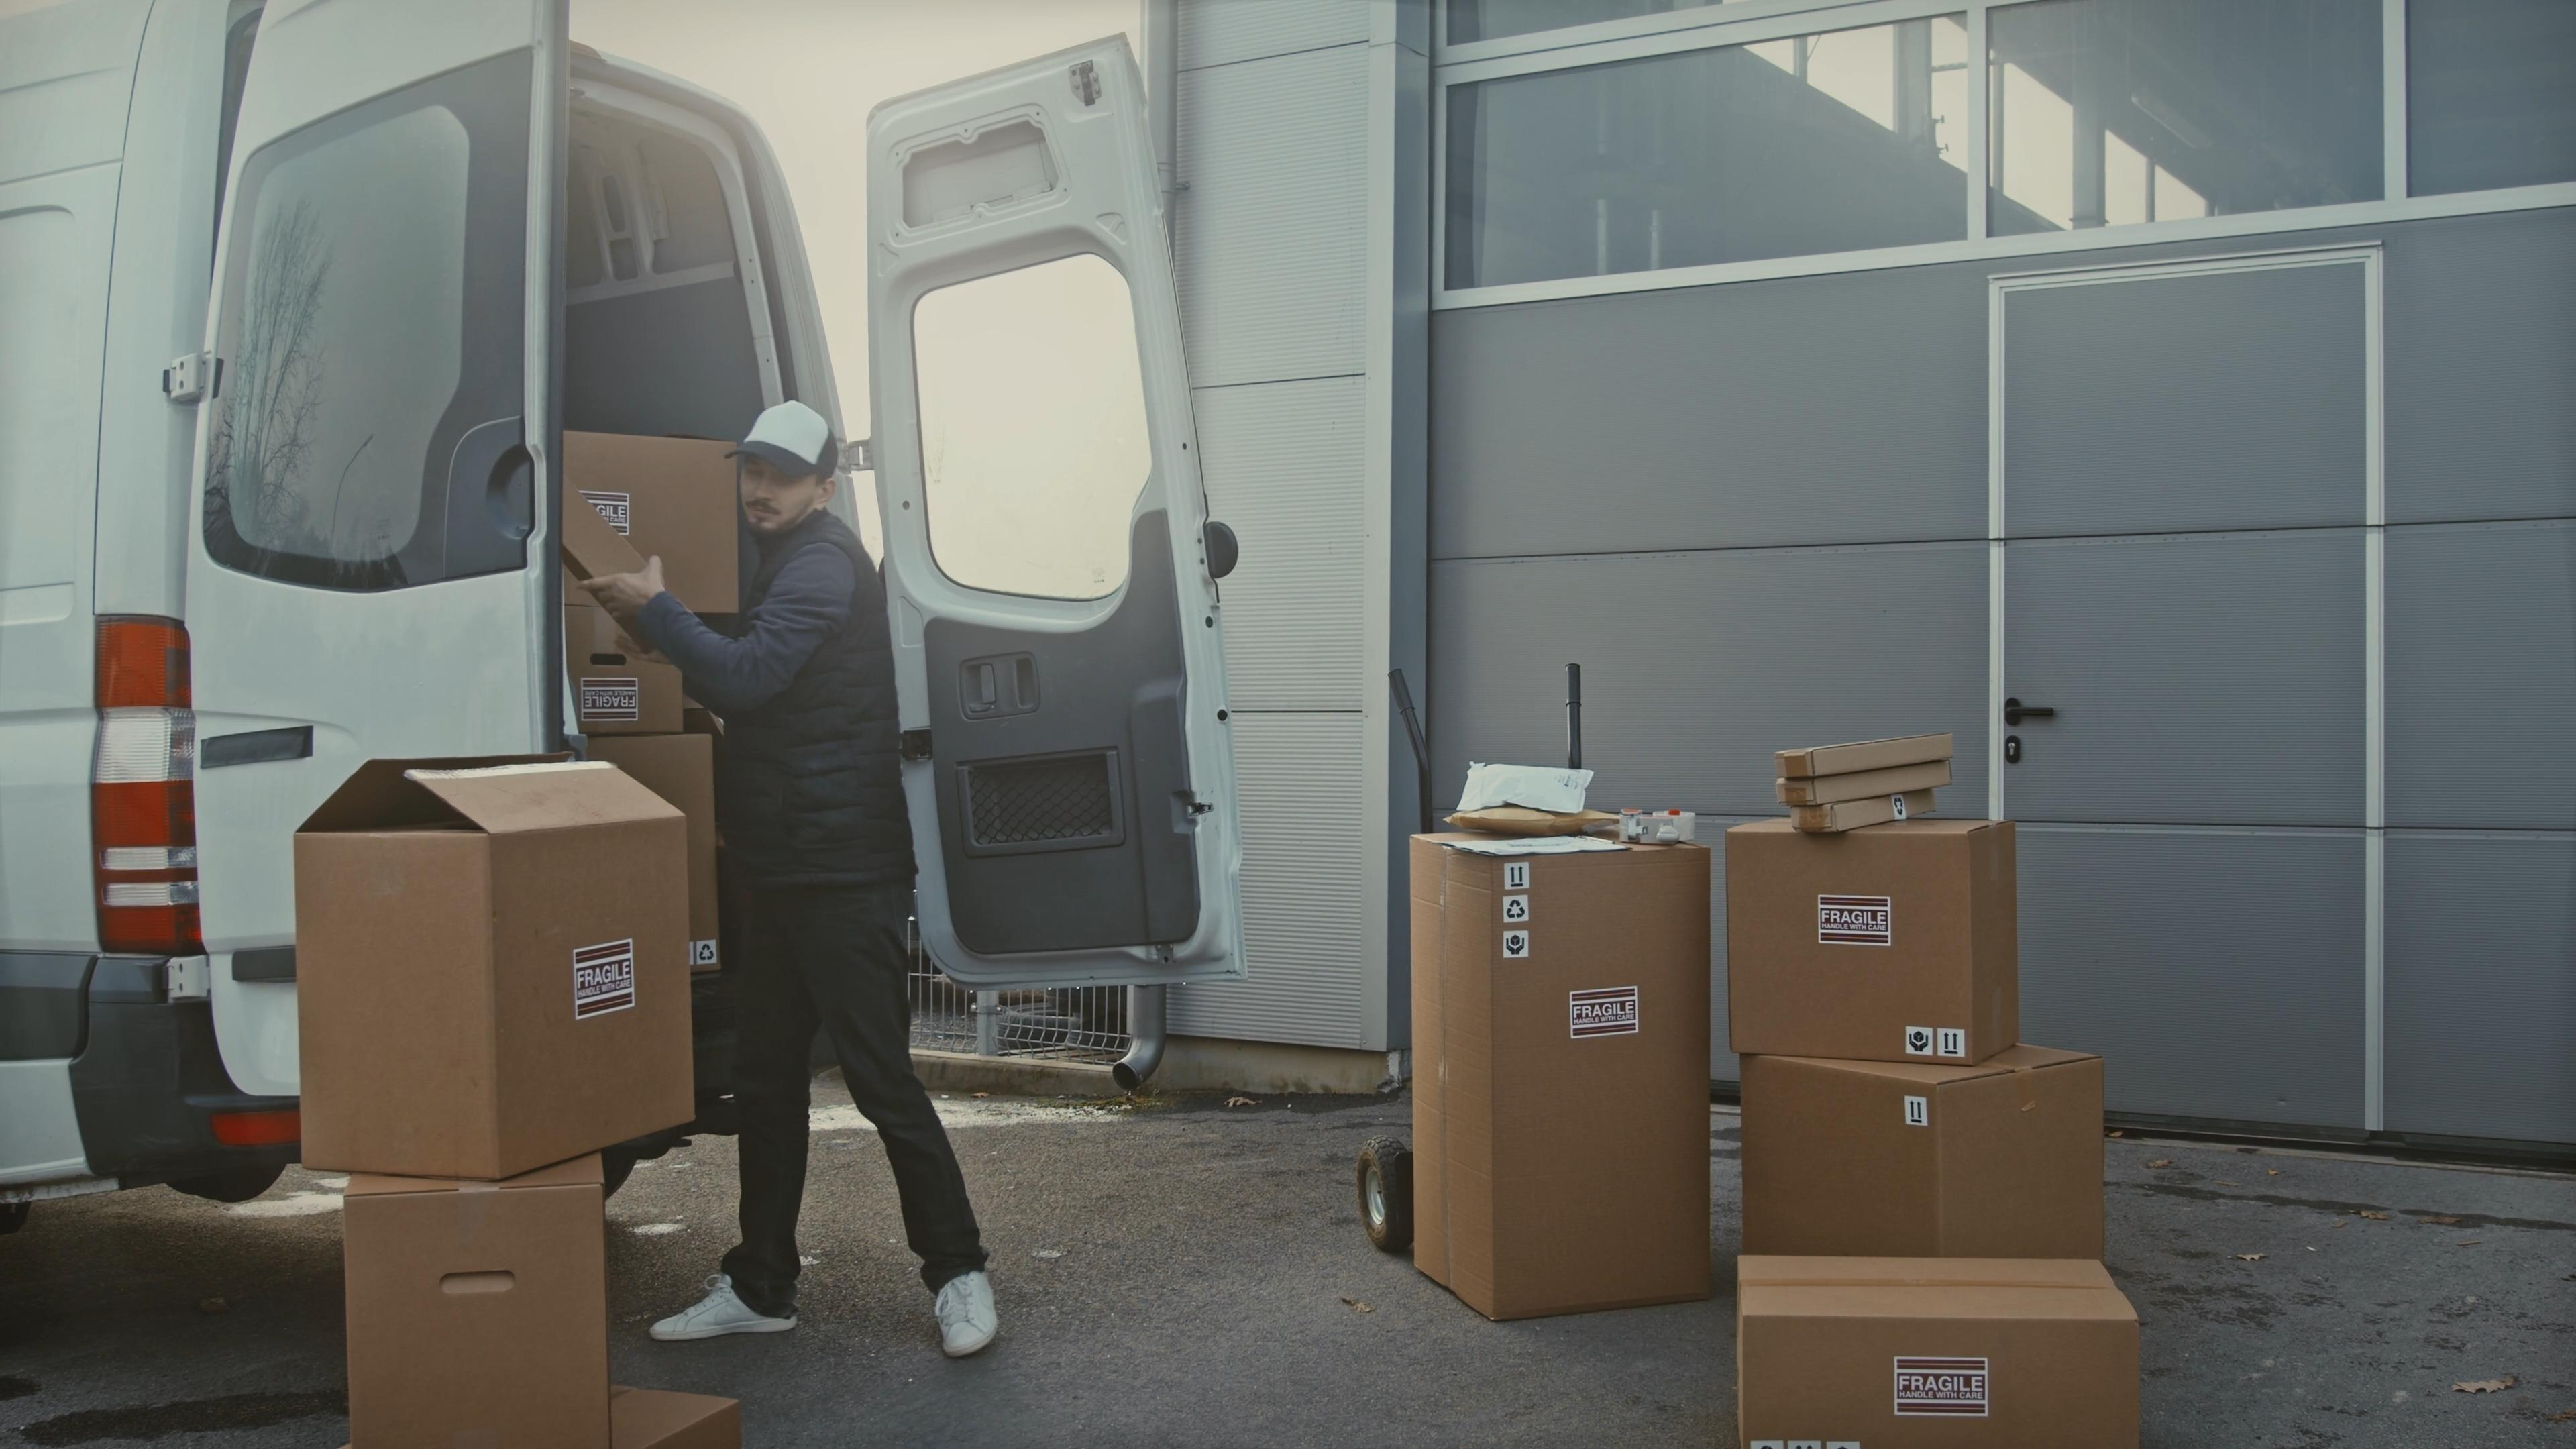-: (288, 745, 694, 1177), (1399, 819, 1711, 1313), (343, 1168, 621, 1449), (1732, 1051, 2097, 1261), (1729, 812, 2008, 1060), (561, 416, 745, 653)
